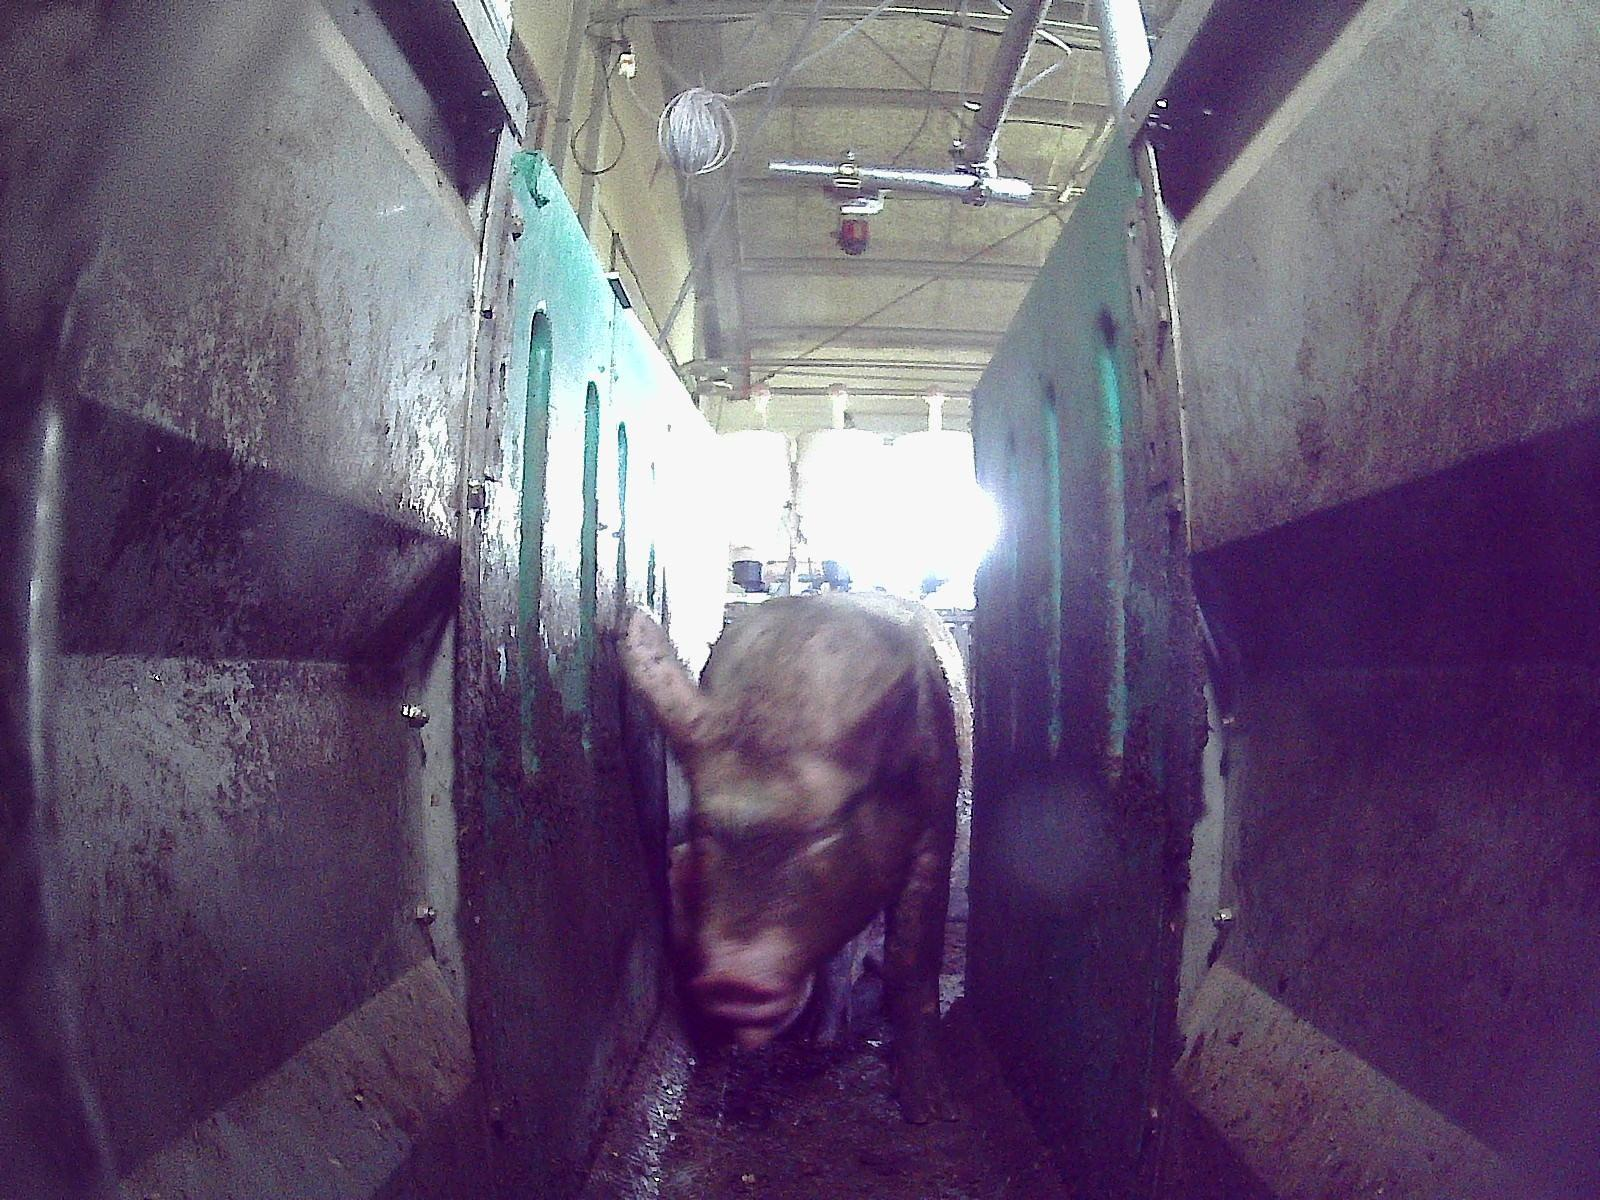Face: (676, 662, 920, 1051)
